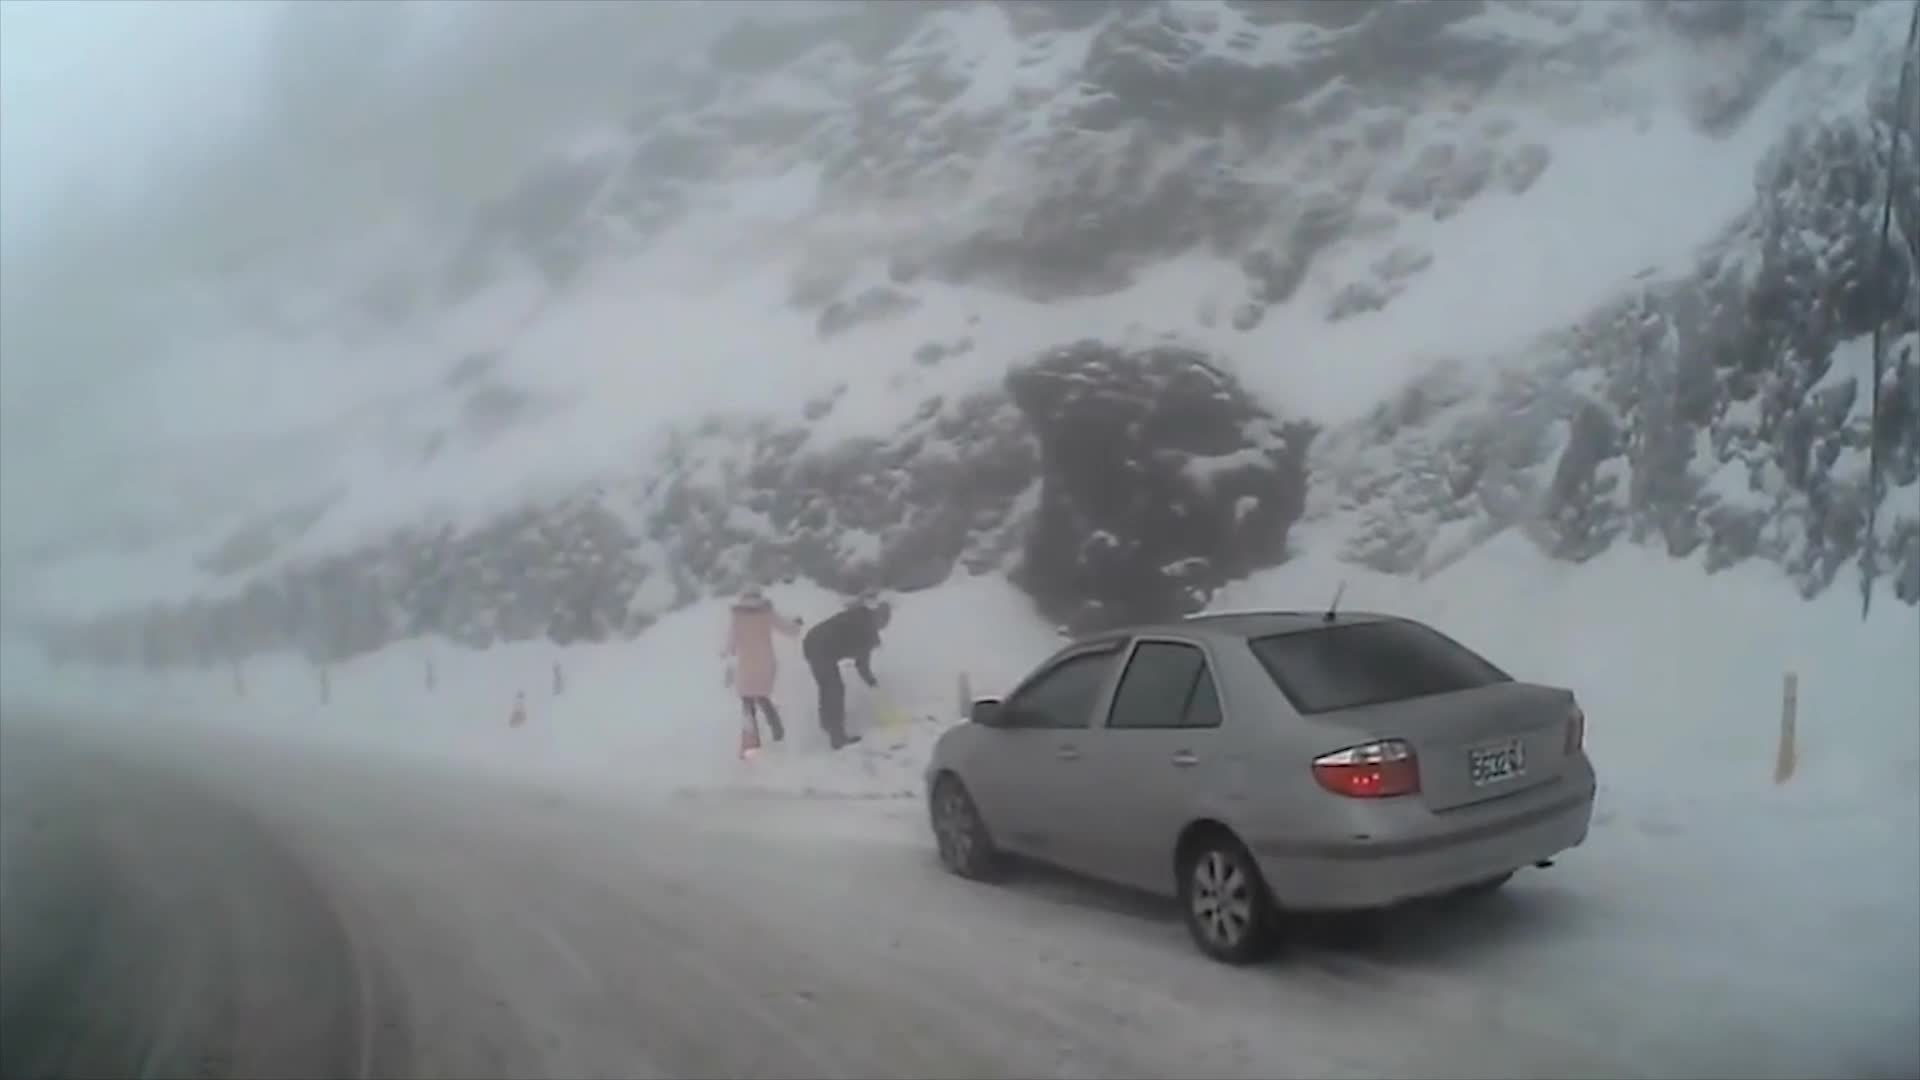pedestrian: (718, 582, 810, 754), (804, 601, 892, 748)
vehicle: (926, 608, 1596, 969)
